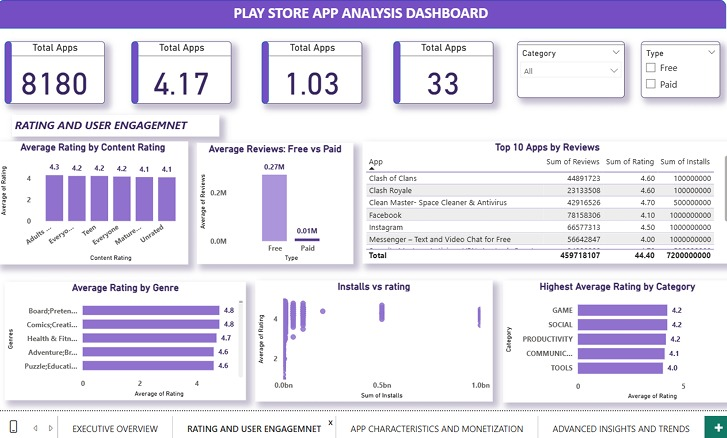

This screenshot's page, from the dashboard's own definition file:
{"tool":"powerbi","page":{"name":"RATING AND USER ENGAGEMNET","canvas":[1280,720],"ordinal":1},"visuals":[{"type":"shape","box":[9.8,9.8,1259.5,50.1],"z":0},{"type":"textbox","box":[413.3,11,495.2,48.9],"z":1000},{"type":"card","title":"Total Apps","fields":{"Values":["googleplaystore (3).Total Apps"]},"box":[22,81.9,172.4,107.6],"z":2000},{"type":"shape","box":[22,81.9,12.2,107.6],"z":3000},{"type":"card","title":"Total Apps","fields":{"Values":["googleplaystore (3).Total Categories"]},"box":[694.6,81.9,172.4,107.6],"z":4000},{"type":"card","title":"Total Apps","fields":{"Values":["Avg(googleplaystore (3).Price)"]},"box":[465.9,81.9,173.6,107.6],"z":5000},{"type":"card","title":"Total Apps","fields":{"Values":["googleplaystore (3).Average Rating"]},"box":[240.9,81.9,172.4,107.6],"z":6000},{"type":"shape","box":[465.9,81.9,12.2,107.6],"z":7000},{"type":"shape","box":[240.9,81.9,12.2,107.6],"z":8000},{"type":"shape","box":[694.6,81.9,12.2,107.6],"z":9000},{"type":"textbox","box":[34.2,209.1,358.3,37.9],"z":10000},{"type":"clusteredBarChart","title":"Average Rating by Genre","fields":{"Category":["googleplaystore (3).Genres"],"Y":["Avg(googleplaystore (3).Rating)"]},"box":[22,498.1,417.2,204.5],"z":11000},{"type":"clusteredColumnChart","title":"Average Rating by Content Rating","fields":{"Y":["Avg(googleplaystore (3).Rating)"],"Category":["googleplaystore (3).Content Rating"]},"box":[9.6,255.2,329.3,212.7],"z":12000},{"type":"clusteredColumnChart","title":"Average Reviews: Free vs Paid","fields":{"Category":["googleplaystore (3).Type"],"Y":["Avg(googleplaystore (3).Reviews)"]},"box":[354,258,270.3,209.9],"z":13000},{"type":"clusteredBarChart","title":"Highest Average Rating by Category","fields":{"Category":["googleplaystore (3).Category"],"Y":["Avg(googleplaystore (3).Rating)"]},"box":[883.7,495.4,396.6,211.3],"z":14000},{"type":"slicer","fields":{"Values":["googleplaystore (3).Category"]},"box":[908.6,81.9,185.9,97.8],"z":15000},{"type":"slicer","fields":{"Values":["googleplaystore (3).Type"]},"box":[1122.6,81.9,137,97.8],"z":16000},{"type":"scatterChart","title":"Installs vs rating","fields":{"X":["Sum(googleplaystore (3).Installs)"],"Y":["Avg(googleplaystore (3).Rating)"],"Category":["googleplaystore (3).App"]},"box":[455.6,495.4,410.3,209.9],"z":17000},{"type":"tableEx","title":"Top 10 Apps by Reviews","fields":{"Values":["googleplaystore (3).App","Sum(googleplaystore (3).Reviews)","Sum(googleplaystore (3).Rating)","Sum(googleplaystore (3).Installs)"]},"box":[640.8,255.2,639.5,211.3],"z":18000}]}

Visuals, with their boxes on the page's 1280x720 design canvas (x1, y1, x2, y2). These are canvas units, not pixel positions in the 727x438 screenshot, which may show the page scaled, cropped or inside an application window:
shape: [x1=10, y1=10, x2=1269, y2=60]
textbox: [x1=413, y1=11, x2=908, y2=60]
"Total Apps" card: [x1=22, y1=82, x2=194, y2=190]
shape: [x1=22, y1=82, x2=34, y2=190]
"Total Apps" card: [x1=695, y1=82, x2=867, y2=190]
"Total Apps" card: [x1=466, y1=82, x2=640, y2=190]
"Total Apps" card: [x1=241, y1=82, x2=413, y2=190]
shape: [x1=466, y1=82, x2=478, y2=190]
shape: [x1=241, y1=82, x2=253, y2=190]
shape: [x1=695, y1=82, x2=707, y2=190]
textbox: [x1=34, y1=209, x2=392, y2=247]
"Average Rating by Genre" clusteredBarChart: [x1=22, y1=498, x2=439, y2=703]
"Average Rating by Content Rating" clusteredColumnChart: [x1=10, y1=255, x2=339, y2=468]
"Average Reviews: Free vs Paid" clusteredColumnChart: [x1=354, y1=258, x2=624, y2=468]
"Highest Average Rating by Category" clusteredBarChart: [x1=884, y1=495, x2=1280, y2=707]
slicer - googleplaystore (3).Category: [x1=909, y1=82, x2=1094, y2=180]
slicer - googleplaystore (3).Type: [x1=1123, y1=82, x2=1260, y2=180]
"Installs vs rating" scatterChart: [x1=456, y1=495, x2=866, y2=705]
"Top 10 Apps by Reviews" tableEx: [x1=641, y1=255, x2=1280, y2=466]
